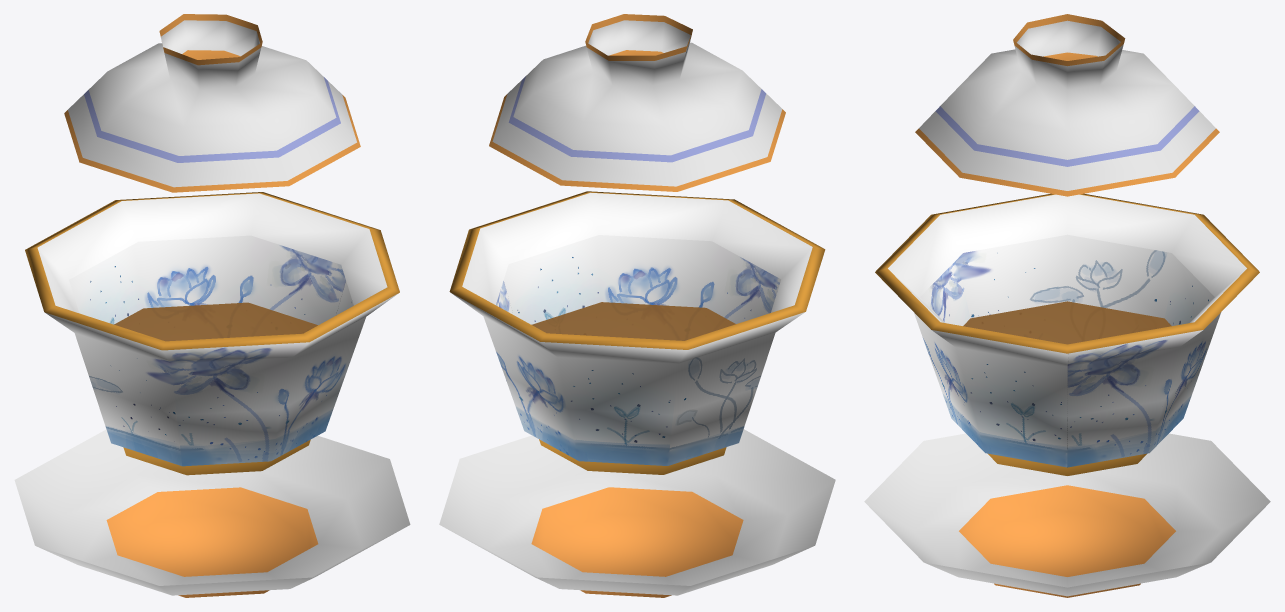
The model's file is gaiwan-bowl-lid-saucer.glb.
The picture shows the model from 3 angles, left to right: view 1: azimuth 30°, elevation 25°; view 2: azimuth 150°, elevation 25°; view 3: azimuth 270°, elevation 25°; orthographic projection.
Parts seen in each view (by area): view 1: Sphere.001, Sphere, Sphere.002; view 2: Sphere.001, Sphere, Sphere.002; view 3: Sphere.001, Sphere, Sphere.002.
Boxes of the visible parts, x1=… form: Sphere.001: x1=25, y1=192, x2=399, y2=475; Sphere: x1=14, y1=429, x2=410, y2=597; Sphere.002: x1=64, y1=14, x2=360, y2=192; Sphere.001: x1=449, y1=191, x2=825, y2=474; Sphere: x1=439, y1=429, x2=835, y2=597; Sphere.002: x1=489, y1=14, x2=785, y2=191; Sphere.001: x1=875, y1=193, x2=1259, y2=475; Sphere: x1=864, y1=433, x2=1270, y2=597; Sphere.002: x1=915, y1=14, x2=1219, y2=196.
Bounding box in the file's own units: 1.7 × 2.38 × 1.7.
Materials: 8 (1 with a texture image).
